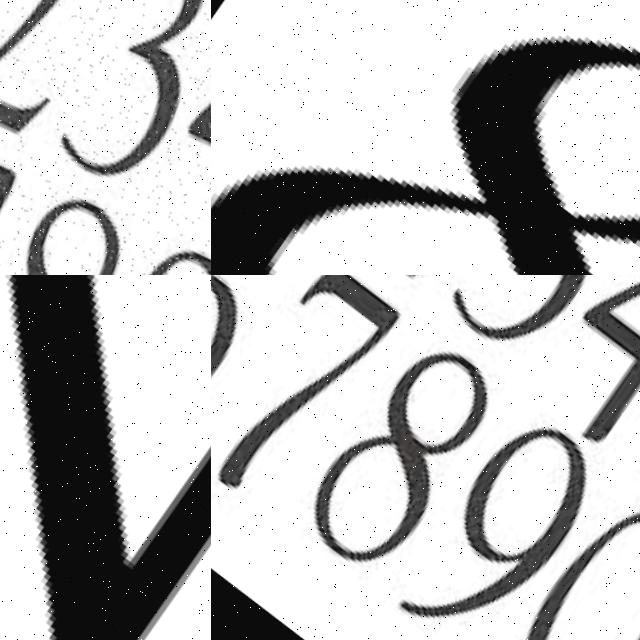0: (479, 464, 640, 640)
2: (0, 0, 173, 175)
3: (0, 0, 211, 222), (430, 275, 640, 374)
4: (86, 0, 211, 275), (513, 275, 640, 466)
6: (211, 275, 317, 440)
7: (211, 275, 409, 525), (0, 97, 78, 275)
8: (211, 0, 640, 275), (280, 310, 516, 589), (0, 142, 194, 275)
9: (374, 381, 618, 640), (8, 189, 211, 275)
N: (0, 275, 211, 640)
